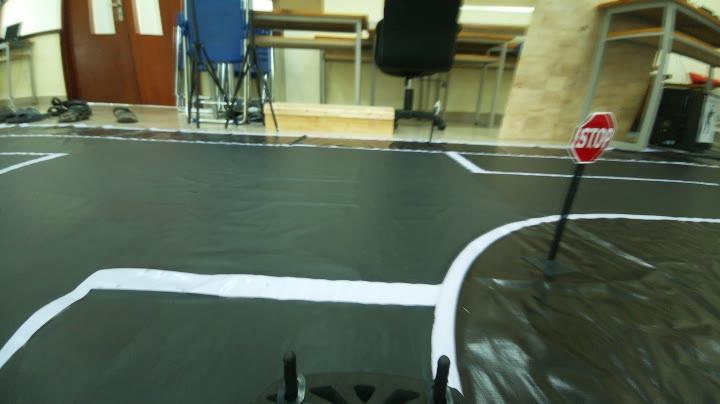stop: (566, 106, 622, 167)
